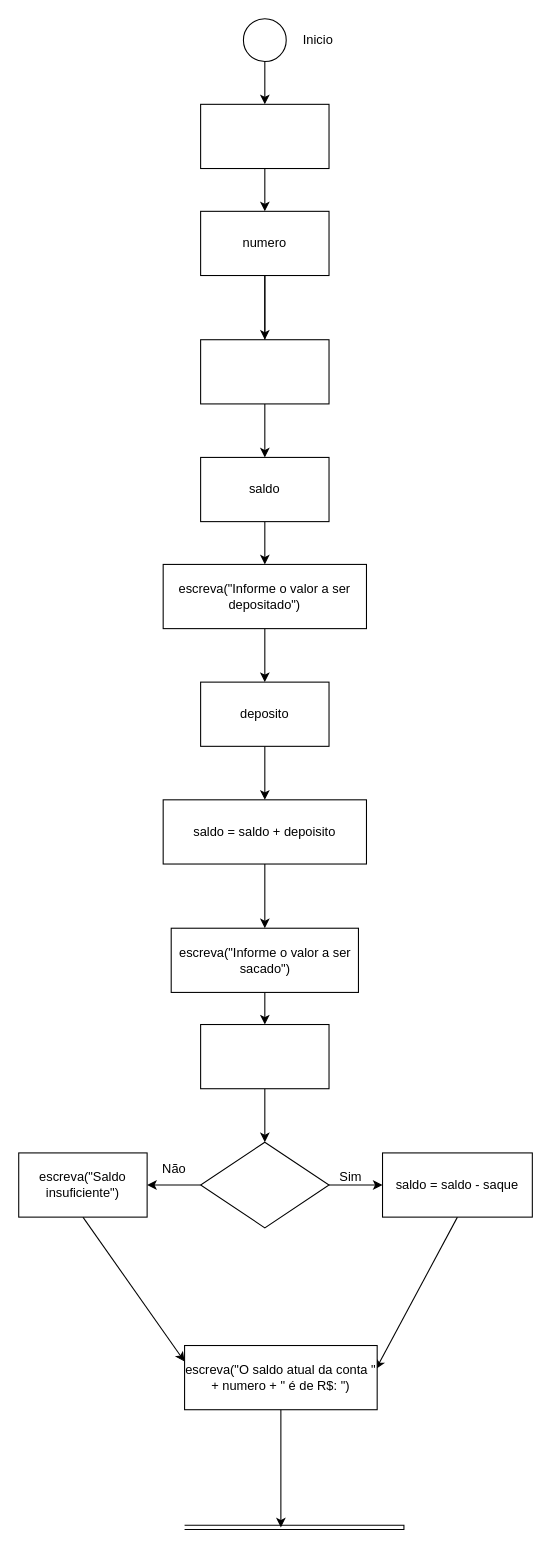
Some shapes in this 551 by 1555 pixel diagram are drawn without their labels. The box of each missing label's shape, as (x1, y1, x2, y2) in pixels:
escreva("Informe o número da conta"): (200, 103, 329, 169)
escreva("Informe o saldo inicial da conta"): (200, 339, 329, 404)
saldo >= saque: (200, 1141, 329, 1228)
saque: (200, 1023, 329, 1089)
